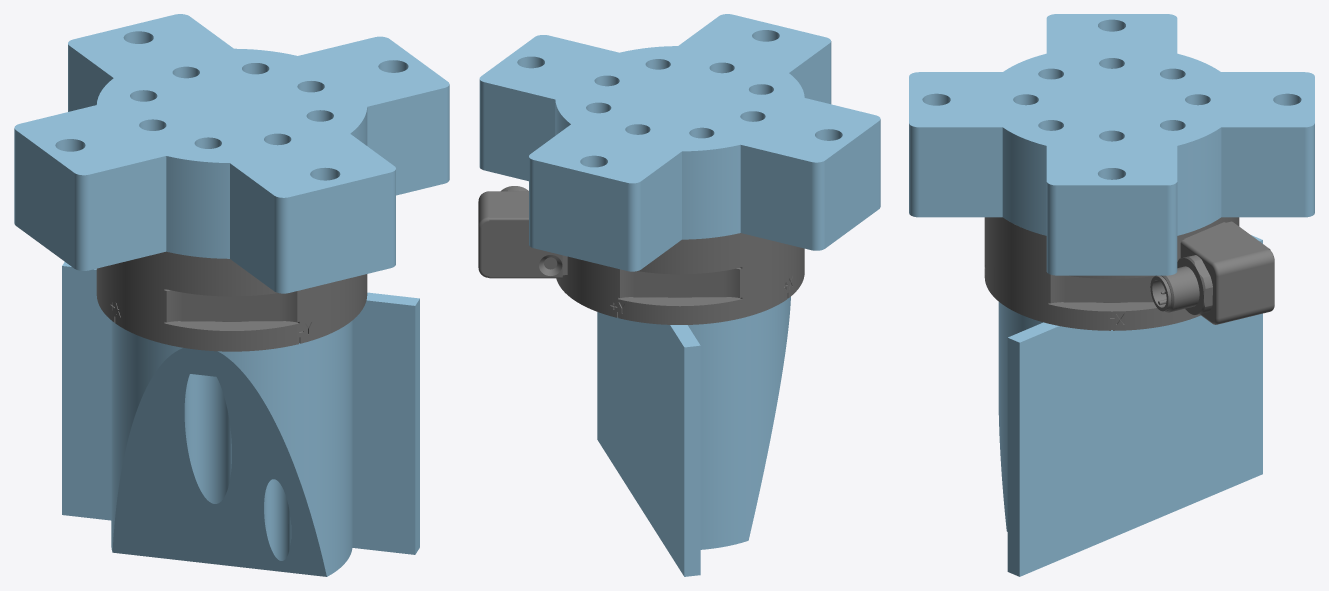
Rendered from FTSensorPlusWiderLineEndEffector_old.dae.
The picture shows the model from 3 angles, left to right: view 1: azimuth 30°, elevation 25°; view 2: azimuth 150°, elevation 25°; view 3: azimuth 270°, elevation 25°; orthographic projection. The views are drawn at different scales.
Parts seen in each view (by area): view 1: Part 1 (×4); view 2: Part 1 (×4), Part 2; view 3: Part 1 (×4), Part 2.
Part boxes in pixels (x1,y1,x2,y2): Part 1 (×4): [14, 14, 449, 576]; Part 1 (×4): [479, 14, 880, 576]; Part 2: [478, 186, 567, 278]; Part 1 (×4): [909, 14, 1314, 576]; Part 2: [1150, 221, 1274, 324].
Bounding box in the file's own units: 0.118 × 0.118 × 0.1327.
